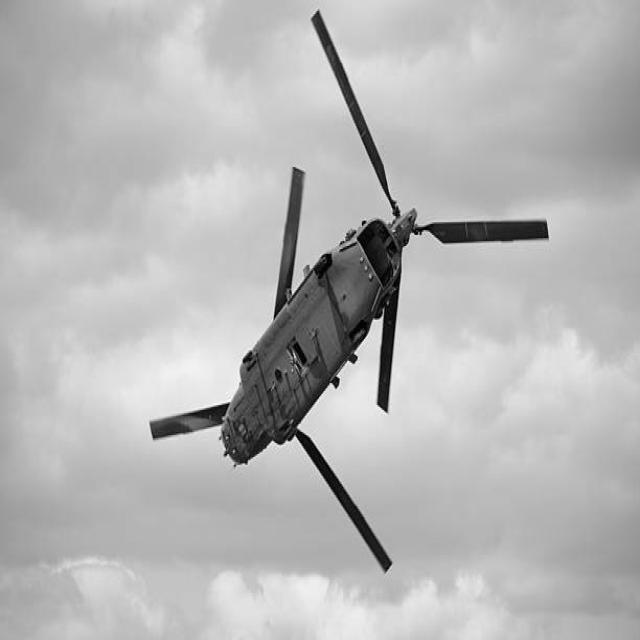Helicopter: (150, 11, 549, 570)
